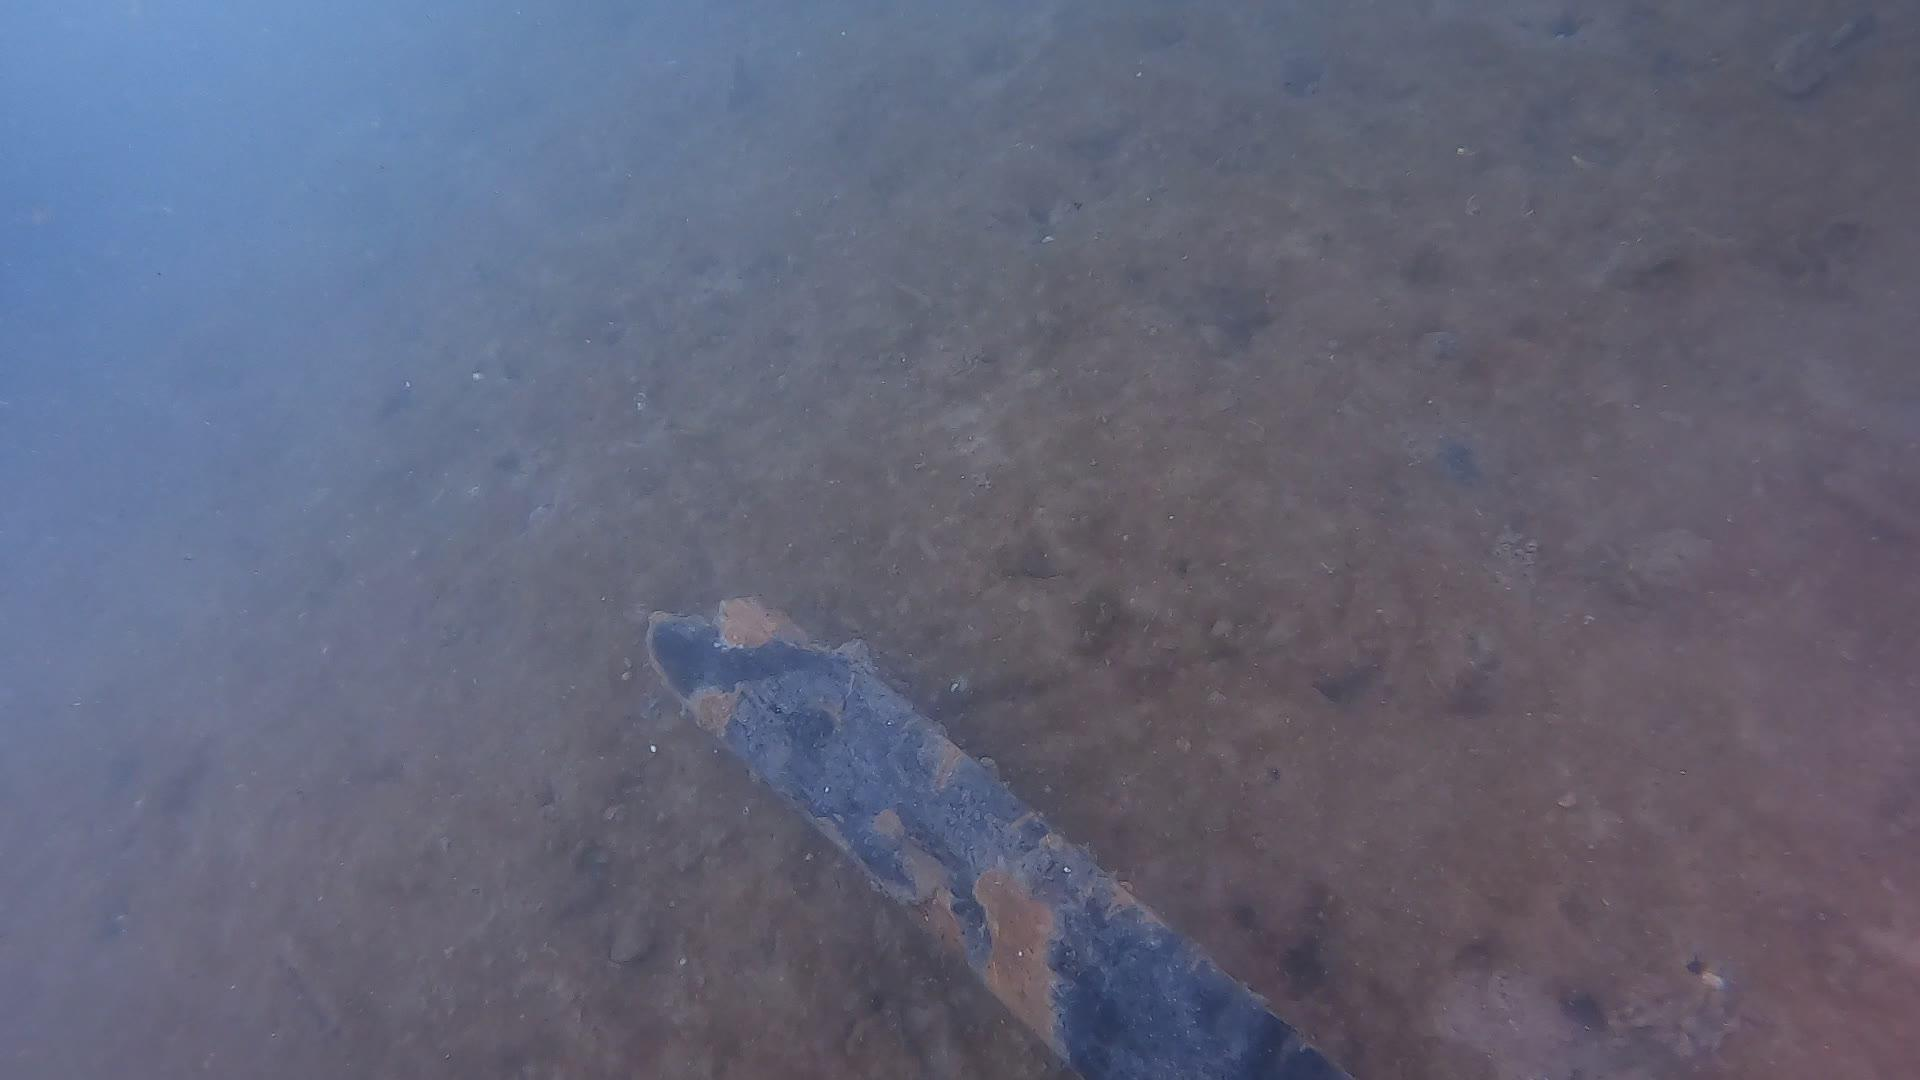wood: (646, 599, 1346, 1080)
